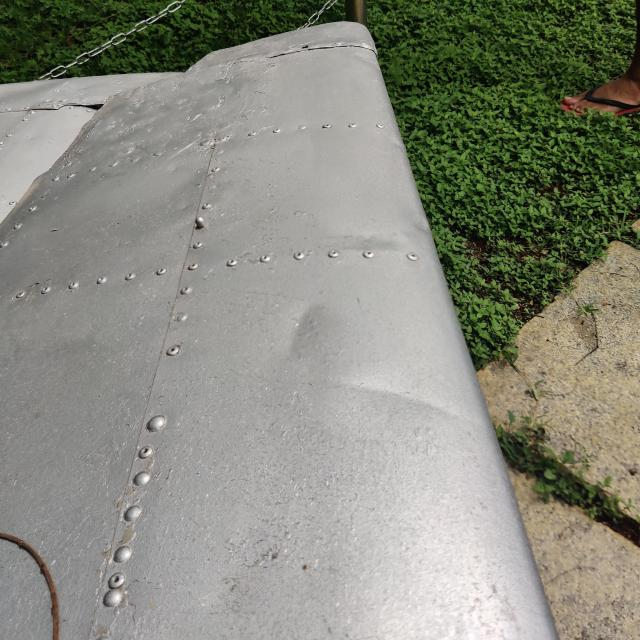dent: (320, 346, 482, 450), (260, 277, 354, 369)
